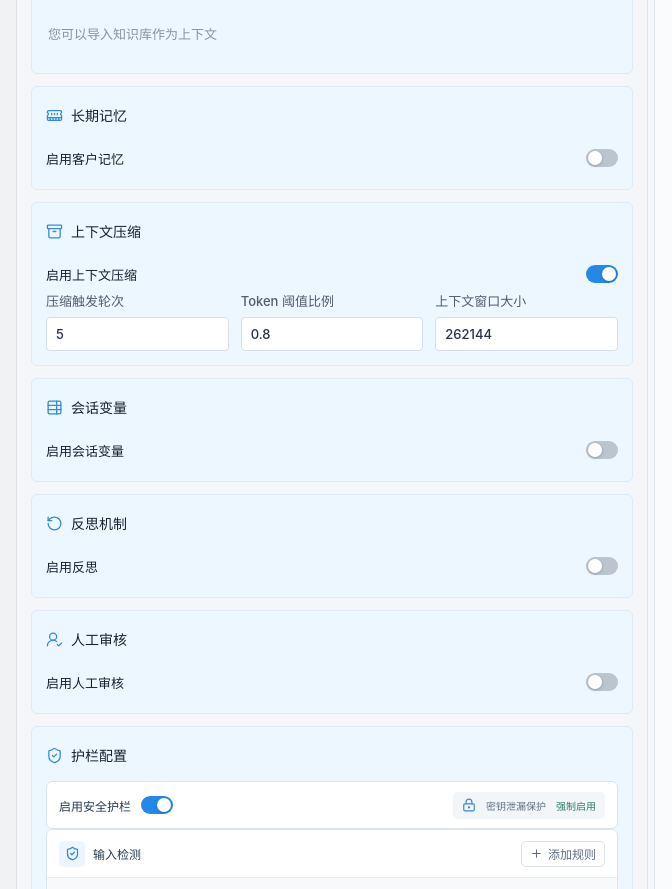
Test: advanced agent configuration prototype › adds a configurable session variable field
(page scrolled)
Click the checkbox named "启用会话变量". click: [602, 450]
box: [586,441,618,459]
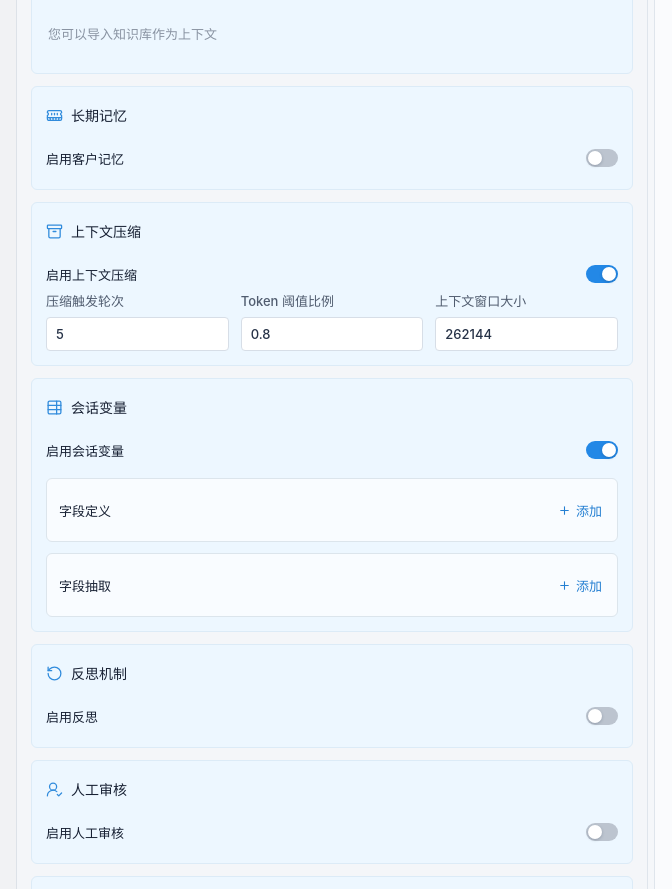
Click the button "添加" in the row of "字段定义". click: [580, 510]
box: [555,498,605,522]
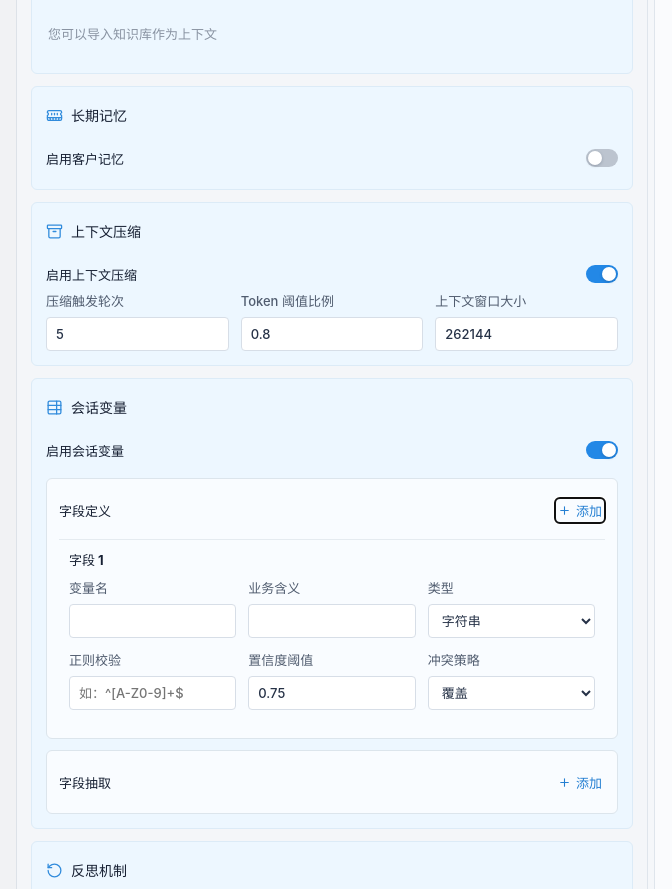
Now the text "字段 1" is shown, box [69,552,104,568]
Now the field labelled "变量名" is shown, box [69,604,236,638]
